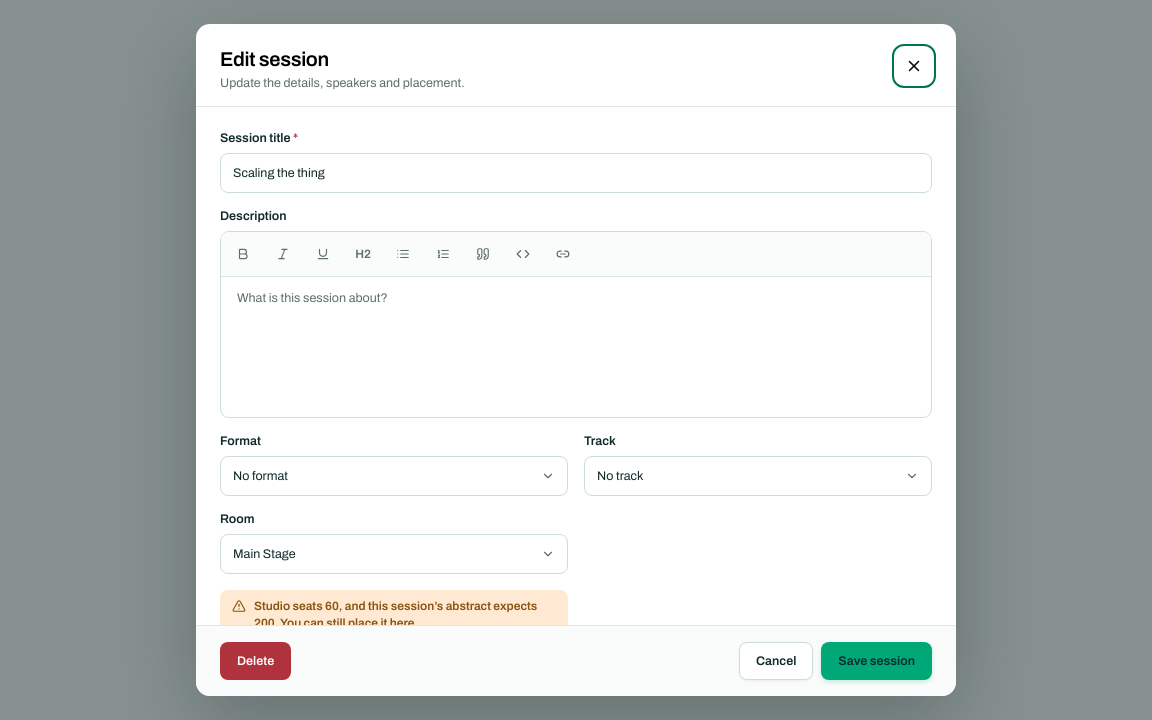
it: the session dialog's room-capacity advisory › goes away when the organizer picks a room that fits
The width and height of the screenshot is (1152, 720).
Check: the message with class "agenda-capacity-note" is shown, box [220,590,568,625]
Select "Main Stage" in the 3rd dropdown at (394, 554), box [220,534,568,574]
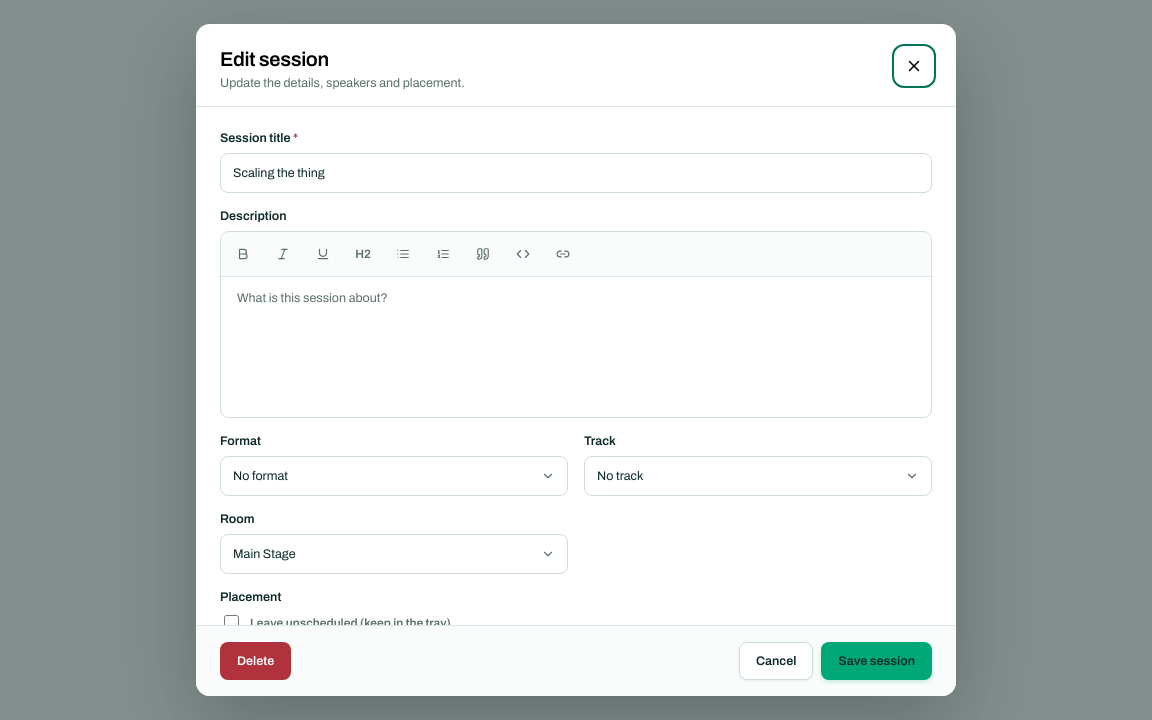
Check: the message with class "agenda-capacity-note" is gone
